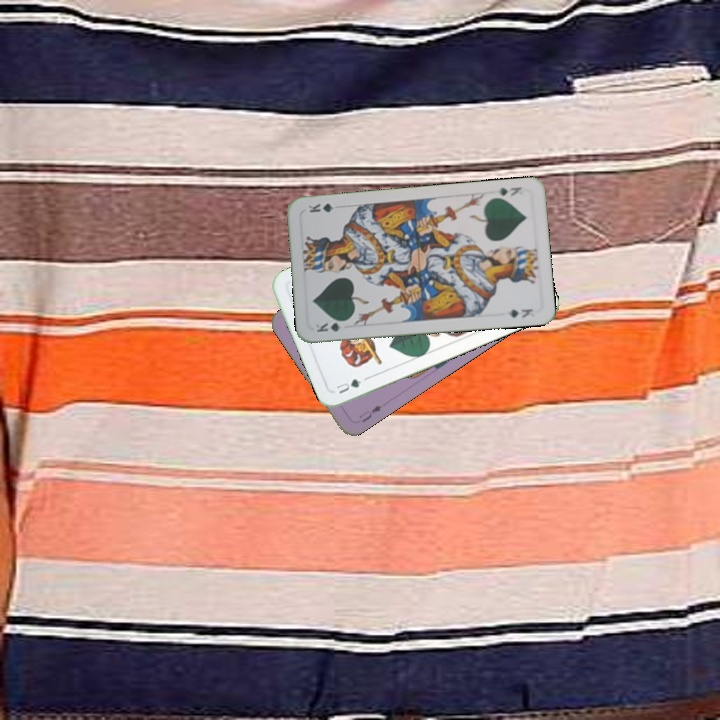EU: (355, 401, 384, 425)
GK: (312, 316, 351, 335), (492, 183, 524, 199)
GU: (332, 375, 364, 397)
